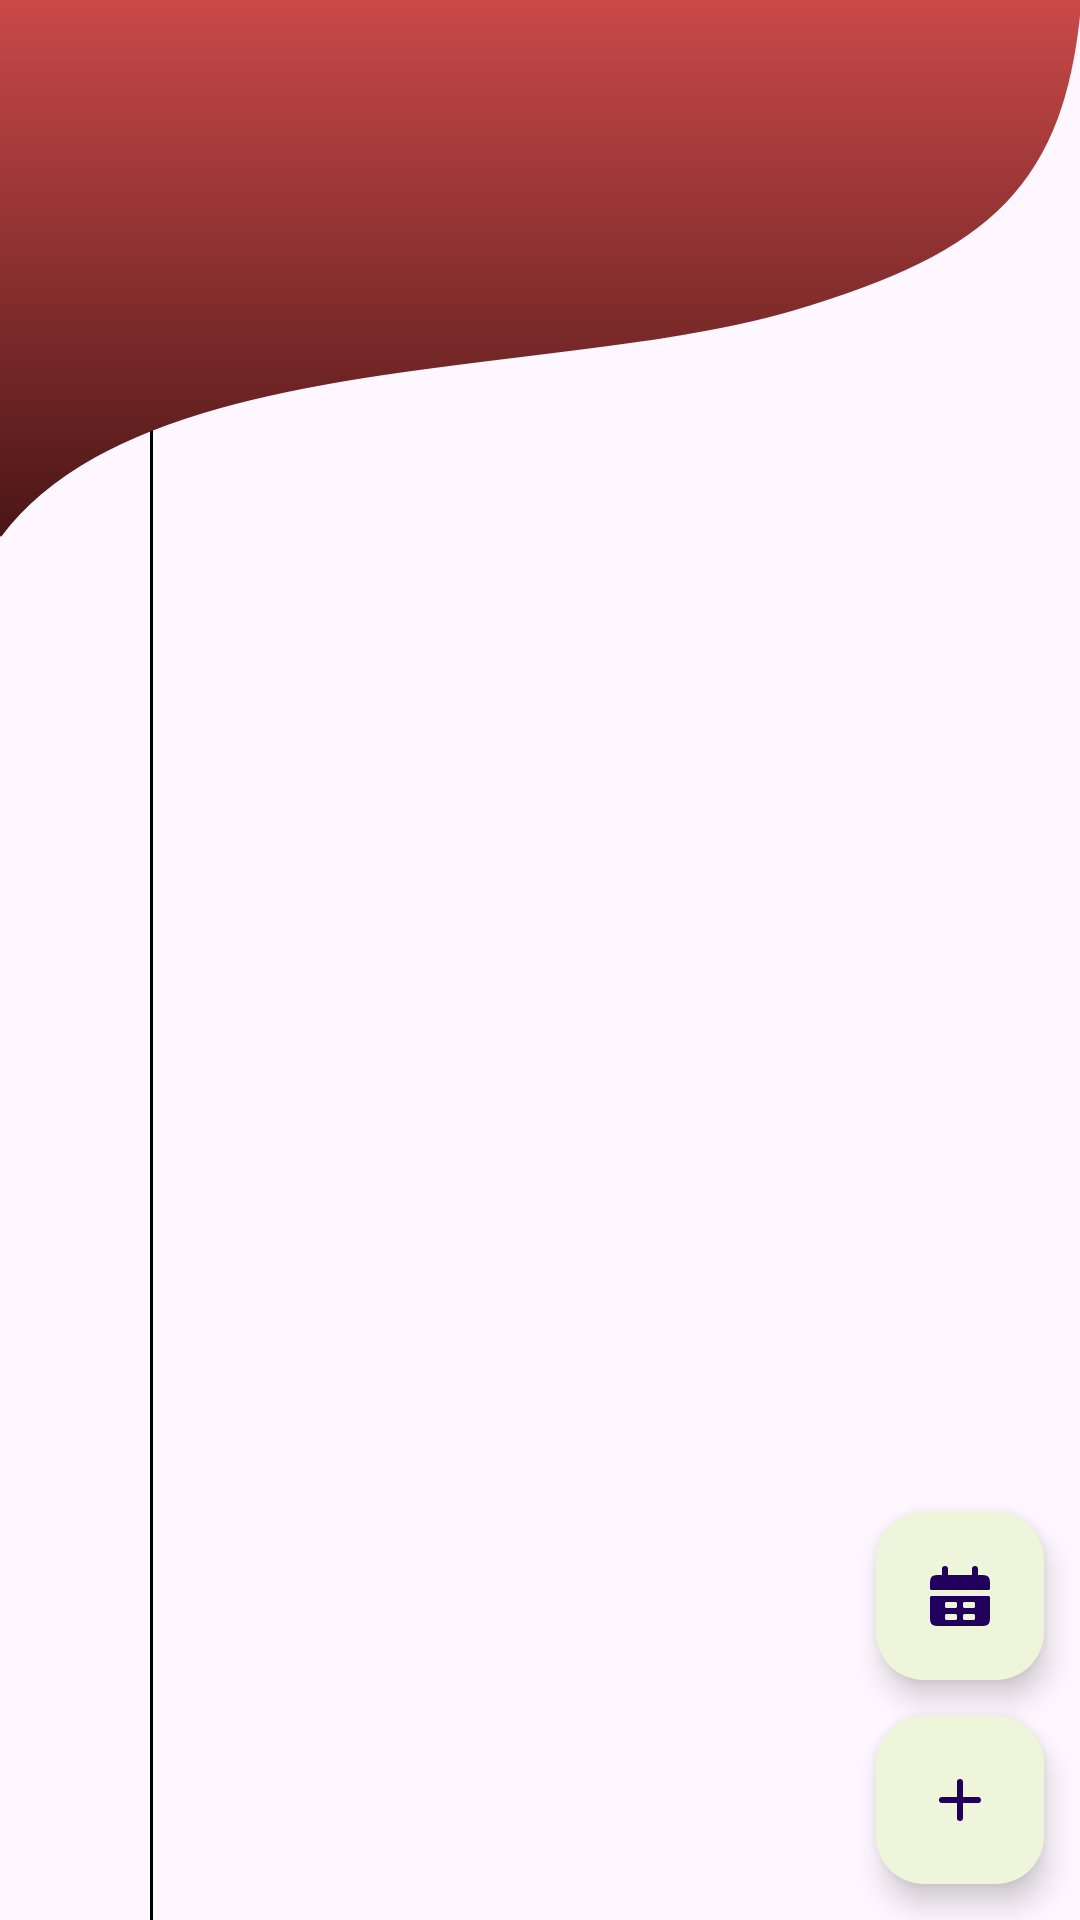

Named icons in this screenshot (1080*1920) and their bounding boxes, (x1, y1, x2, y2):
Opens Date selector: (876, 1512, 1044, 1680)
Opens screen to add a new task: (876, 1716, 1044, 1884)
